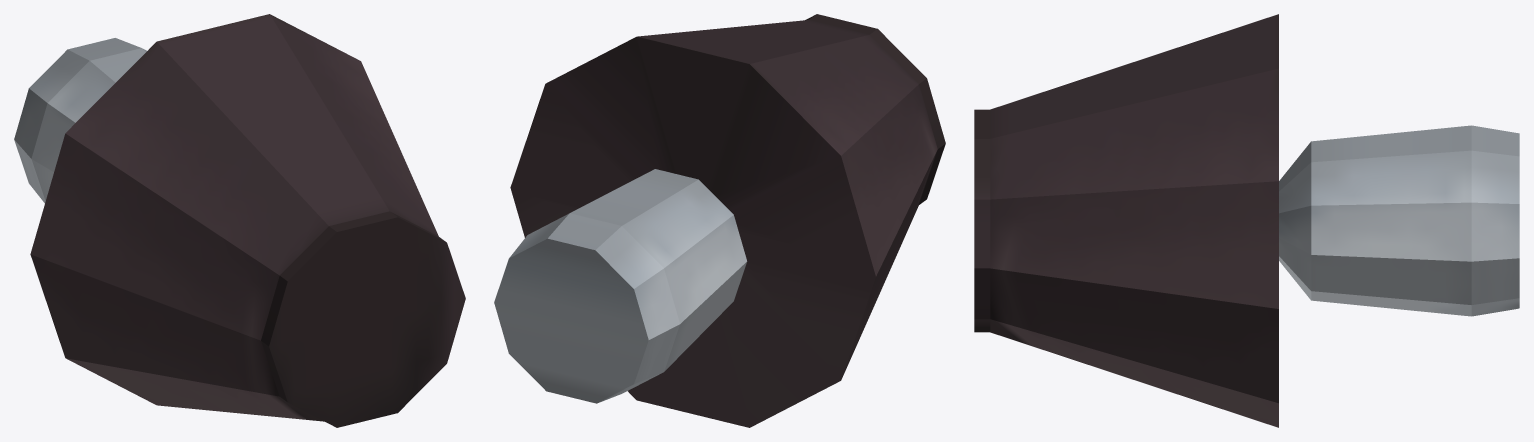
Rendered from pz_lamp_11.obj.
3 renders of one model, left to right at view 1: azimuth 30°, elevation 25°; view 2: azimuth 150°, elevation 25°; view 3: azimuth 270°, elevation 25°, orthographic.
Size of the model in its own units: 0.26 by 0.2473 by 0.34.
Materials: 1 (1 with a texture image).
